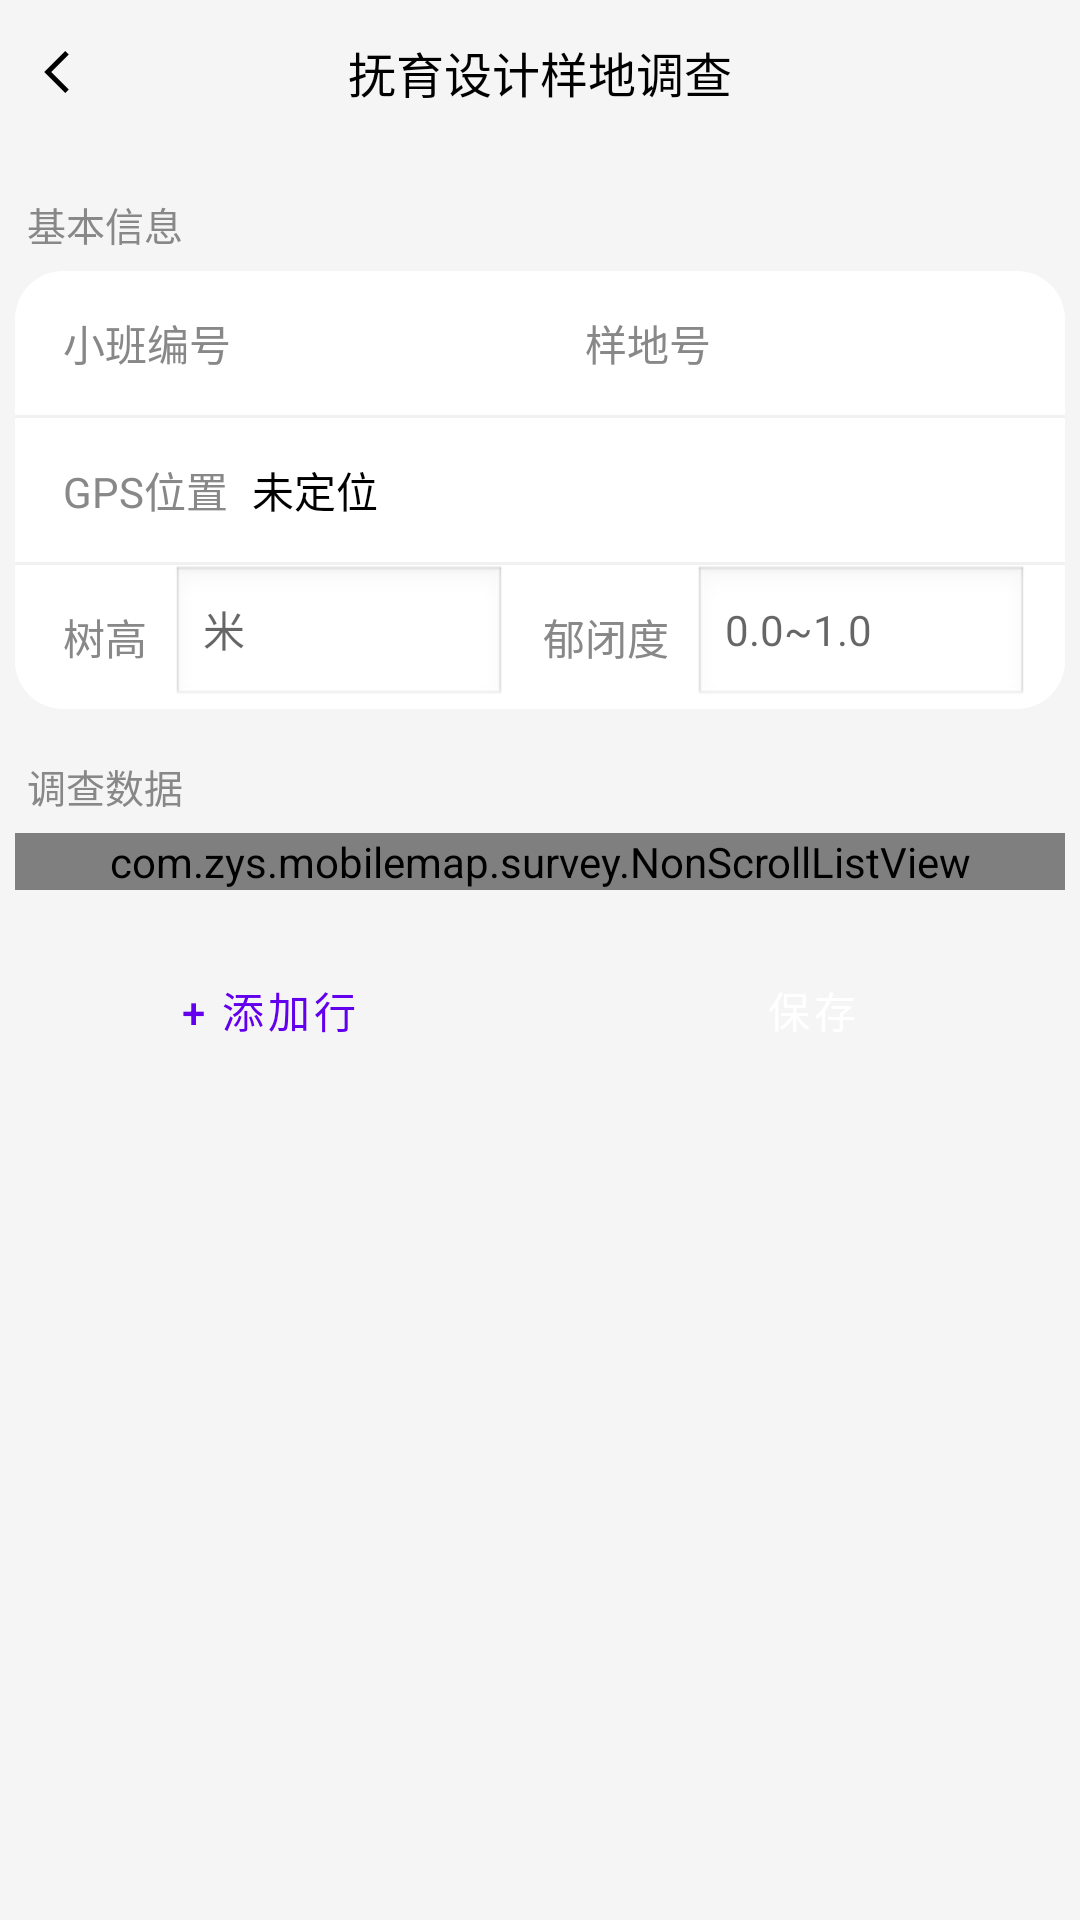

Named icons in this screenshot (1080w x 1920h) and their centers, (x=x, y=y):
返回: (x=56, y=72)
